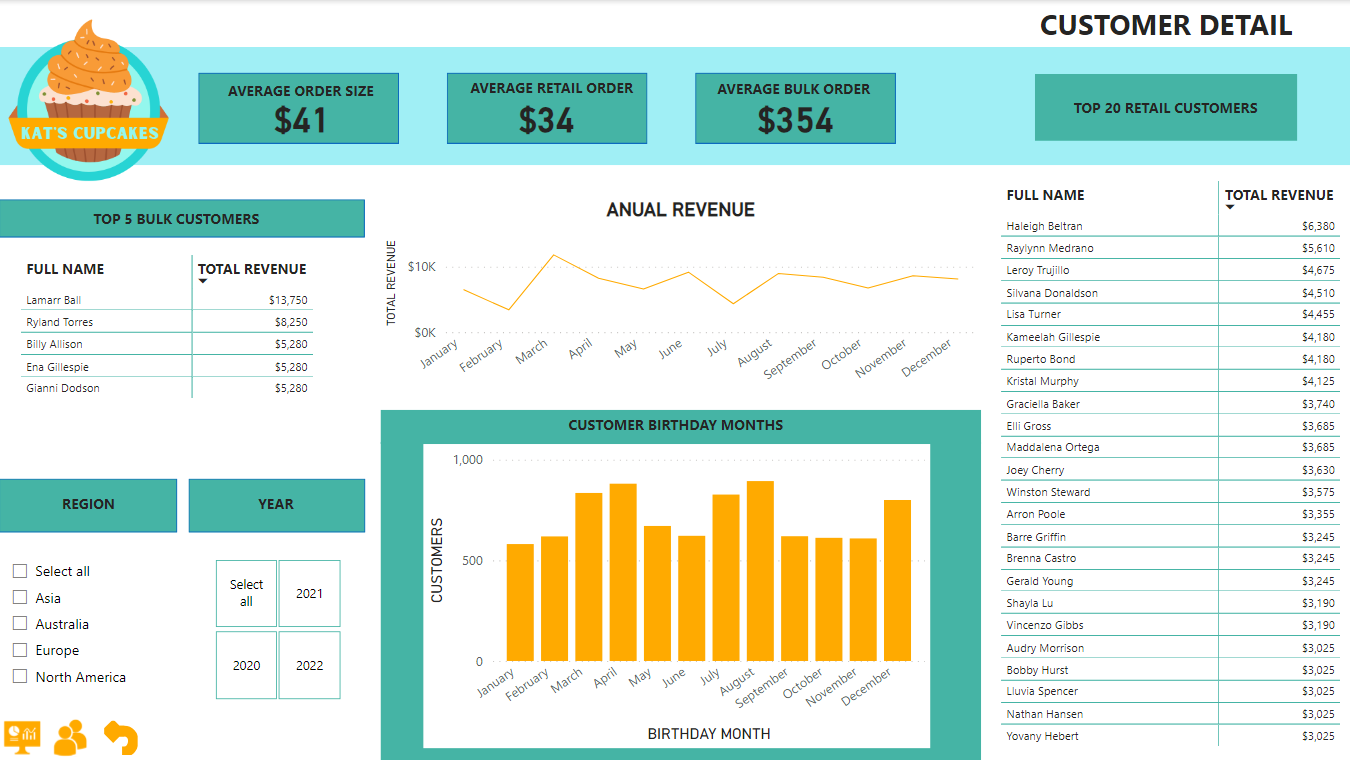

What the dashboard file says about the page in this screenshot:
{"tool":"powerbi","page":{"name":"Customer Detail","canvas":[1280,720],"ordinal":1},"visuals":[{"type":"shape","title":"Banner","box":[0,43.8,1280,112.5],"z":0},{"type":"shape","title":"KPI Card 1","box":[188.8,68.6,190,67.5],"z":1000},{"type":"shape","title":"KPI Card 2","box":[423.8,68.4,190,67.5],"z":2000},{"type":"shape","title":"KPI Card 3","box":[658.8,68.8,190,67.5],"z":3000},{"type":"card","title":"TOTAL REVENUE CARD","fields":{"Values":["Sales Data.AVERAGE ORDER AMOUNT"]},"box":[208.8,86.2,156.2,50],"z":4000},{"type":"shape","title":"Map Shape","box":[361.2,417.5,568.8,302.5],"z":5000},{"type":"card","title":"TOTAL PROFIT CARD","fields":{"Values":["Sales Data.AVERAGE ORDER AMOUNT"]},"box":[440,86.2,156.2,50],"z":6000},{"type":"card","title":"CUSTOMERS CARD","fields":{"Values":["Sales Data.AVERAGE ORDER AMOUNT"]},"box":[676.2,87.5,155,47.5],"z":7000},{"type":"textbox","title":"TOTAL REVENUE TITLE","box":[202.5,70.8,166.2,31.2],"z":8000},{"type":"textbox","box":[980,0,300,98.8],"z":9000},{"type":"textbox","title":"TOTAL PROFIT TITLE","box":[431.6,69.1,182.5,32.5],"z":10000},{"type":"textbox","title":"CUSTOMERS TITLE","box":[664.1,70.3,175,31.2],"z":11000},{"type":"image","title":"Logo","box":[0,0,168.8,188.8],"z":12000},{"type":"lineChart","title":"ANUAL REVENUE","fields":{"Category":["Sales Data.ORDER DATE.Variation.Date Hierarchy.Month"],"Y":["Sales Data.TOTAL REVENUE"]},"box":[361.2,187.5,568.8,185],"z":13000},{"type":"columnChart","fields":{"Category":["Customer Lookup.BIRTHDAY BIRTHDAY.Variation.Date Hierarchy.Month"],"Y":["Sales Data.CUSTOMER COUNT"]},"box":[401.2,420,480,287.5],"z":14000},{"type":"shape","title":"Fulfilment shape","box":[0,188.8,346.2,36.2],"z":15000},{"type":"textbox","title":"Fulfilment title","box":[53.8,192.5,228.8,32.5],"z":16000},{"type":"slicer","fields":{"Values":["Sales Data.SALE YEAR"]},"box":[178.8,522.5,167.5,146.2],"z":17000},{"type":"shape","title":"Fulfilment shape","box":[361.2,387.5,568.8,32.5],"z":18000},{"type":"tableEx","fields":{"Values":["Customer Lookup.FULL NAME","Sales Data.TOTAL REVENUE"]},"box":[947.5,171.2,332.5,536.2],"z":19000},{"type":"shape","title":"Fulfilment shape","box":[980,70,248.8,63.8],"z":20000},{"type":"textbox","title":"Fulfilment title","box":[526.2,387.5,228.8,32.5],"z":21000},{"type":"tableEx","fields":{"Values":["Customer Lookup.FULL NAME","Sales Data.TOTAL REVENUE"]},"box":[20,241.2,296.2,162.5],"z":22000},{"type":"slicer","fields":{"Values":["Region Lookup.GEOGRAPHY HIERARCHY.CONTINENT NAME"]},"box":[0,522.5,168.8,147.5],"z":23000},{"type":"shape","title":"Fulfilment shape","box":[0,452.5,168.8,51.2],"z":24000},{"type":"shape","title":"Fulfilment shape","box":[178.8,452.5,167.5,51.2],"z":25000},{"type":"textbox","title":"Fulfilment title","box":[21.2,462.5,127.5,32.5],"z":26000},{"type":"textbox","title":"Fulfilment title","box":[200,462.5,123.8,35],"z":27000},{"type":"textbox","title":"Fulfilment title","box":[1002.5,87.5,203.8,27.5],"z":28000},{"type":"actionButton","box":[0,676.2,45,43.8],"z":29000},{"type":"actionButton","box":[45,676.2,50,43.8],"z":30000},{"type":"actionButton","box":[95,676.2,40,43.8],"z":31000}]}

Visuals, with their boxes in screenshot pixels (x1, y1, x2, y2), scaled from the page's 1280x720 canvas onto the 1350x760 screenshot:
"Banner" shape: rect(0, 46, 1349, 165)
"KPI Card 1" shape: rect(199, 72, 400, 144)
"KPI Card 2" shape: rect(447, 72, 647, 143)
"KPI Card 3" shape: rect(695, 73, 895, 144)
"TOTAL REVENUE CARD" card: rect(220, 91, 385, 144)
"Map Shape" shape: rect(381, 441, 981, 759)
"TOTAL PROFIT CARD" card: rect(464, 91, 629, 144)
"CUSTOMERS CARD" card: rect(713, 92, 877, 142)
"TOTAL REVENUE TITLE" textbox: rect(214, 75, 389, 108)
textbox: rect(1034, 0, 1349, 104)
"TOTAL PROFIT TITLE" textbox: rect(455, 73, 648, 107)
"CUSTOMERS TITLE" textbox: rect(700, 74, 885, 107)
"Logo" image: rect(0, 0, 178, 199)
"ANUAL REVENUE" lineChart: rect(381, 198, 981, 393)
columnChart - Customer Lookup.BIRTHDAY BIRTHDAY.Variation.Date Hierarchy.Month x Sales Data.CUSTOMER COUNT: rect(423, 443, 929, 747)
"Fulfilment shape" shape: rect(0, 199, 365, 238)
"Fulfilment title" textbox: rect(57, 203, 298, 238)
slicer - Sales Data.SALE YEAR: rect(189, 552, 365, 706)
"Fulfilment shape" shape: rect(381, 409, 981, 443)
tableEx - Customer Lookup.FULL NAME x Sales Data.TOTAL REVENUE: rect(999, 181, 1349, 747)
"Fulfilment shape" shape: rect(1034, 74, 1296, 141)
"Fulfilment title" textbox: rect(555, 409, 796, 443)
tableEx - Customer Lookup.FULL NAME x Sales Data.TOTAL REVENUE: rect(21, 255, 333, 426)
slicer - Region Lookup.GEOGRAPHY HIERARCHY.CONTINENT NAME: rect(0, 552, 178, 707)
"Fulfilment shape" shape: rect(0, 478, 178, 532)
"Fulfilment shape" shape: rect(189, 478, 365, 532)
"Fulfilment title" textbox: rect(22, 488, 157, 522)
"Fulfilment title" textbox: rect(211, 488, 342, 525)
"Fulfilment title" textbox: rect(1057, 92, 1272, 121)
actionButton: rect(0, 714, 47, 759)
actionButton: rect(47, 714, 100, 759)
actionButton: rect(100, 714, 142, 759)
